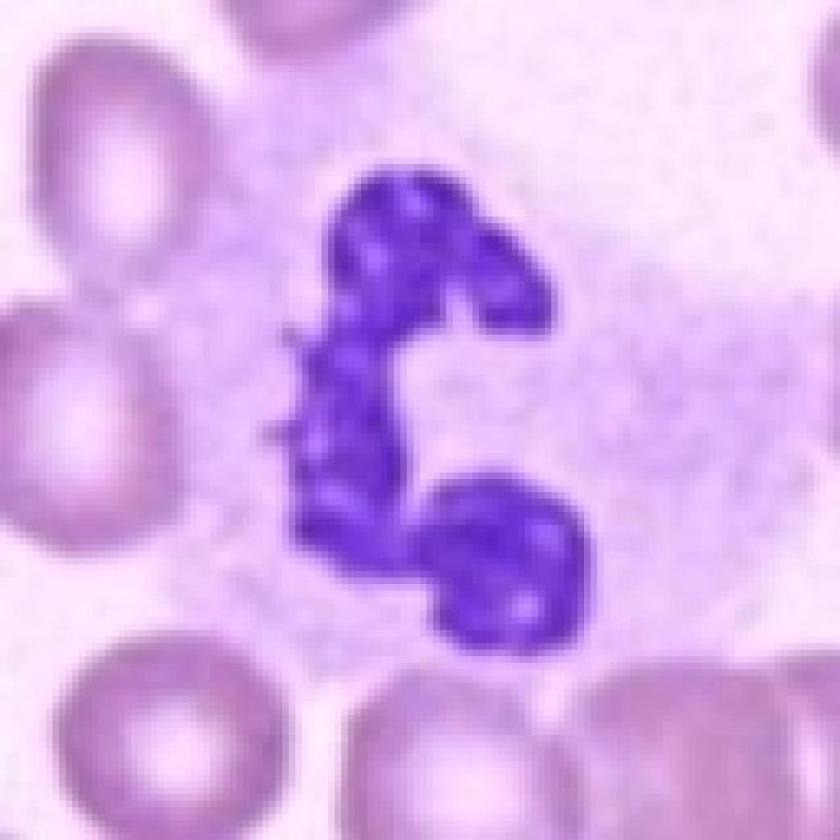neutrophil: (115, 135, 647, 766)
